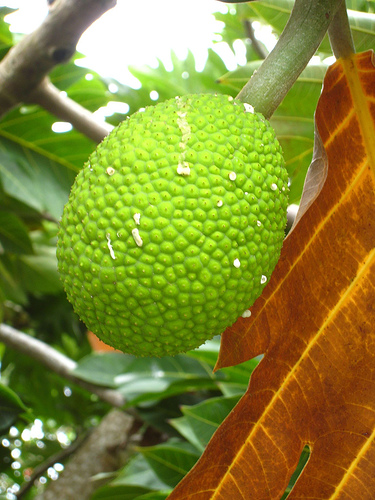jackfruit: (51, 88, 293, 361)
